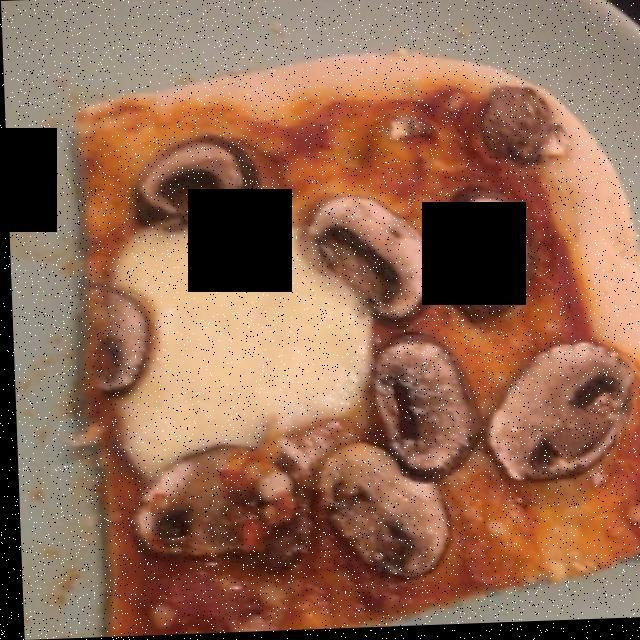mushroom: (93, 83, 629, 573)
pizza: (81, 64, 640, 625)
